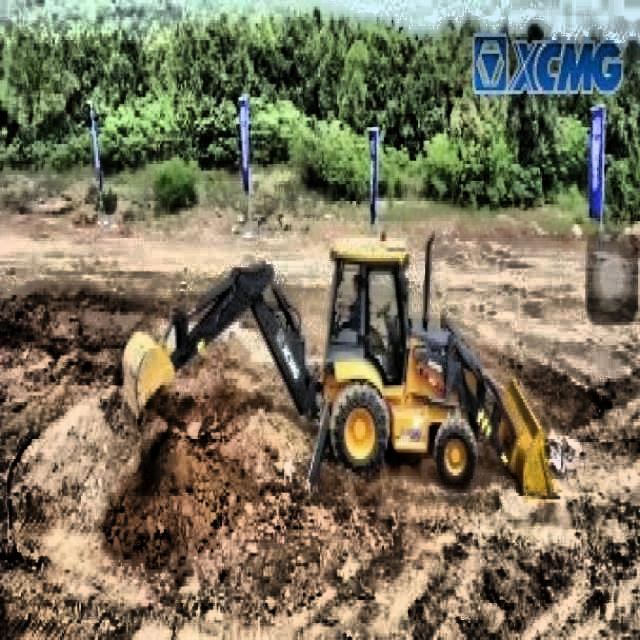bull_dozer/loader/grader: (120, 228, 560, 500)
person: (346, 273, 372, 338)
